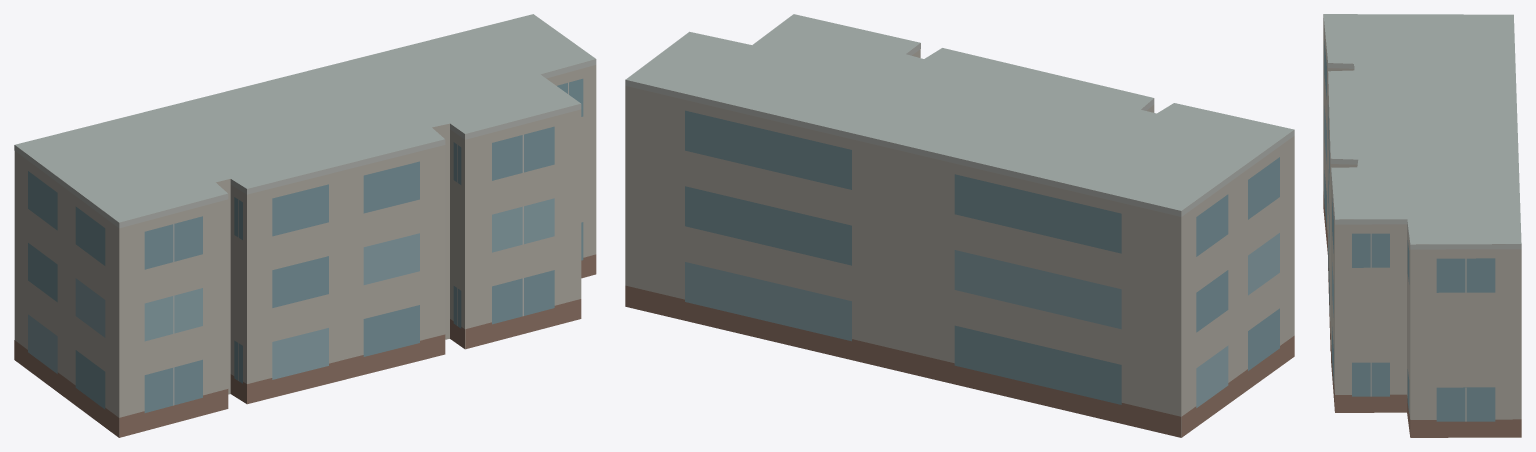
The model's file is survey-upis-33019411.glb.
The picture shows the model from 3 angles, left to right: view 1: azimuth 30°, elevation 25°; view 2: azimuth 150°, elevation 25°; view 3: azimuth 270°, elevation 25°; orthographic projection. The views are drawn at different scales.
Visible parts, largest first — view 1: survey-upis-33019411.tmp; view 2: survey-upis-33019411.tmp; view 3: survey-upis-33019411.tmp.
Boxes of the visible parts, x1,y1,x2,y2 form: survey-upis-33019411.tmp: [14, 14, 596, 437]; survey-upis-33019411.tmp: [625, 14, 1294, 437]; survey-upis-33019411.tmp: [1323, 14, 1521, 437].
Bounding box in the file's own units: 23.39 × 9.15 × 8.5.
